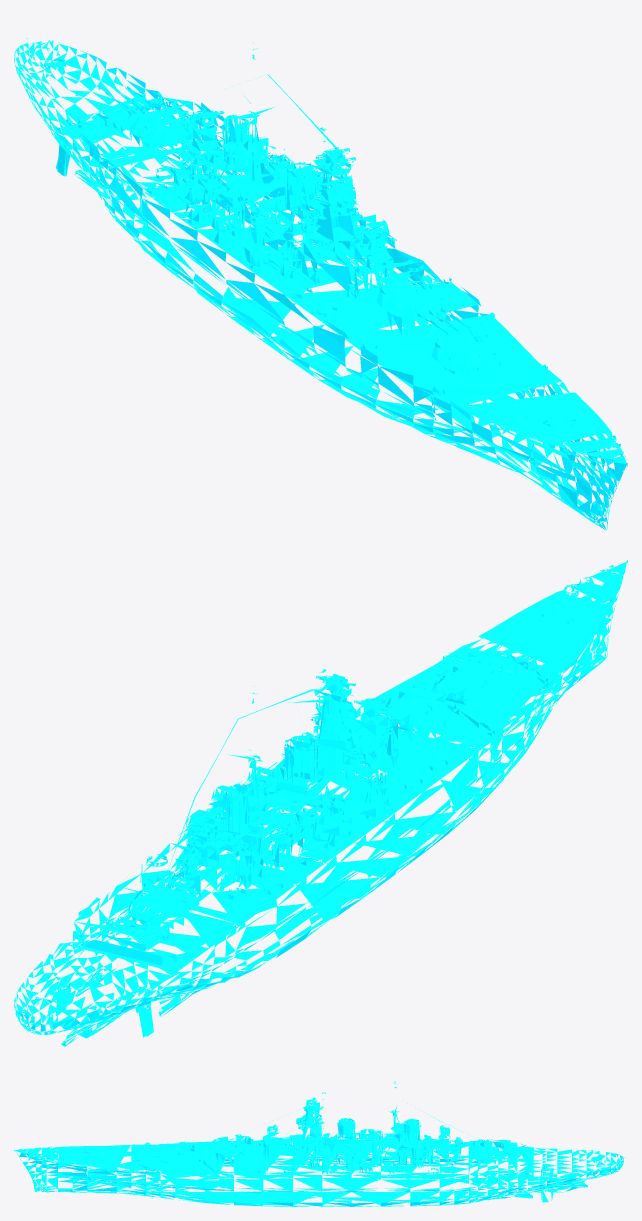
The model's file is PRSB709.glb.
3 views of the same model, one above another, from view 1: azimuth 30°, elevation 25°; view 2: azimuth 150°, elevation 25°; view 3: azimuth 270°, elevation 25° (orthographic). The views are drawn at different scales.
Parts seen in each view (by area): view 1: hull_mid, hull_bow, main_battery, hull_stern, secondary_battery, superstructure, aa_mount; view 2: hull_mid, hull_bow, main_battery, hull_stern, secondary_battery, superstructure, aa_mount; view 3: hull_mid, hull_bow, hull_stern, main_battery, secondary_battery, superstructure, aa_mount.
Part boxes in pixels (left/top/right/bottom): hull_mid: left=72, top=58, right=549, bottom=452; hull_bow: left=447, top=370, right=627, bottom=530; main_battery: left=105, top=86, right=525, bottom=385; hull_stern: left=14, top=38, right=188, bottom=184; secondary_battery: left=178, top=154, right=397, bottom=269; superstructure: left=181, top=42, right=394, bottom=257; aa_mount: left=185, top=151, right=384, bottom=261; hull_mid: left=72, top=651, right=548, bottom=1016; hull_bow: left=447, top=560, right=627, bottom=737; main_battery: left=105, top=645, right=514, bottom=937; hull_stern: left=14, top=942, right=192, bottom=1046; secondary_battery: left=178, top=762, right=396, bottom=864; superstructure: left=181, top=673, right=394, bottom=867; aa_mount: left=183, top=737, right=382, bottom=865; hull_mid: left=132, top=1083, right=532, bottom=1206; hull_bow: left=14, top=1144, right=145, bottom=1195; hull_stern: left=517, top=1148, right=625, bottom=1202; main_battery: left=129, top=1134, right=534, bottom=1162; secondary_battery: left=310, top=1129, right=411, bottom=1172; superstructure: left=267, top=1081, right=462, bottom=1159; aa_mount: left=296, top=1132, right=431, bottom=1162.
Size of the model in its own units: 2.59 by 3.81 by 18.12.
